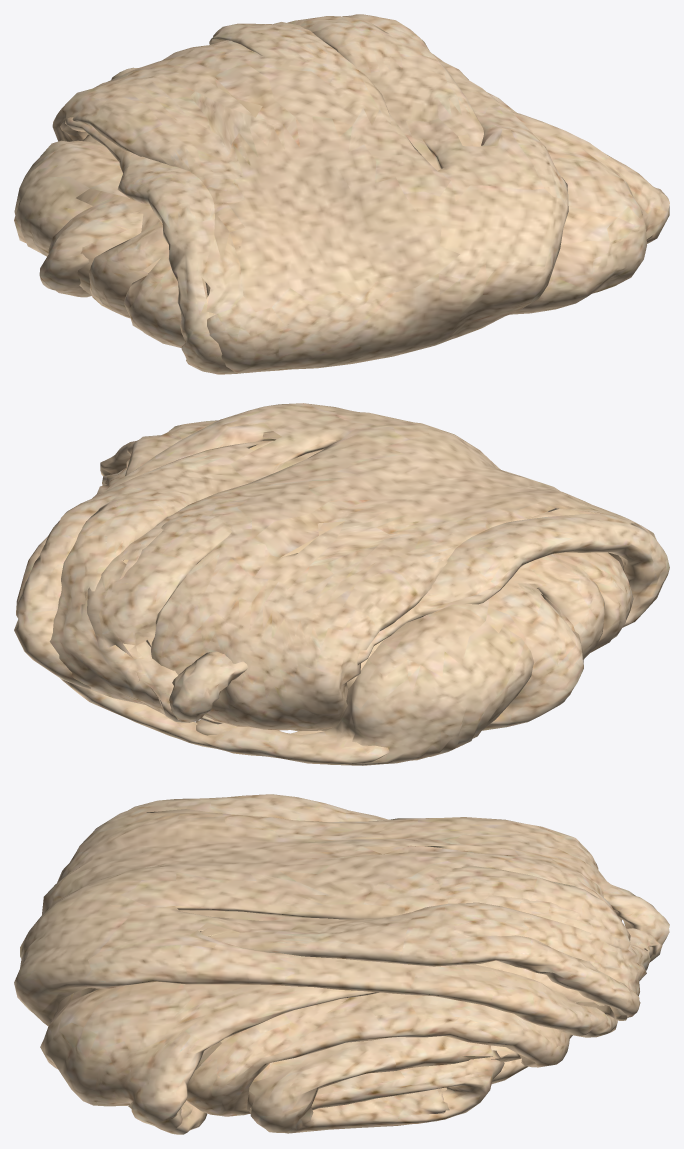
The model's file is mobile.glb.
3 views of the same model, one above another, from view 1: azimuth 30°, elevation 25°; view 2: azimuth 150°, elevation 25°; view 3: azimuth 270°, elevation 25° (orthographic). The views are drawn at different scales.
Parts seen in each view (by area): view 1: throwblanket; view 2: throwblanket; view 3: throwblanket.
Part boxes in pixels (box(x1,y1,x2,y2)): throwblanket: box(14, 14, 669, 374); throwblanket: box(14, 403, 669, 765); throwblanket: box(14, 794, 669, 1134).
Size of the model in its own units: 0.5999 by 0.1702 by 0.6005.
1 material, 1 textured.
